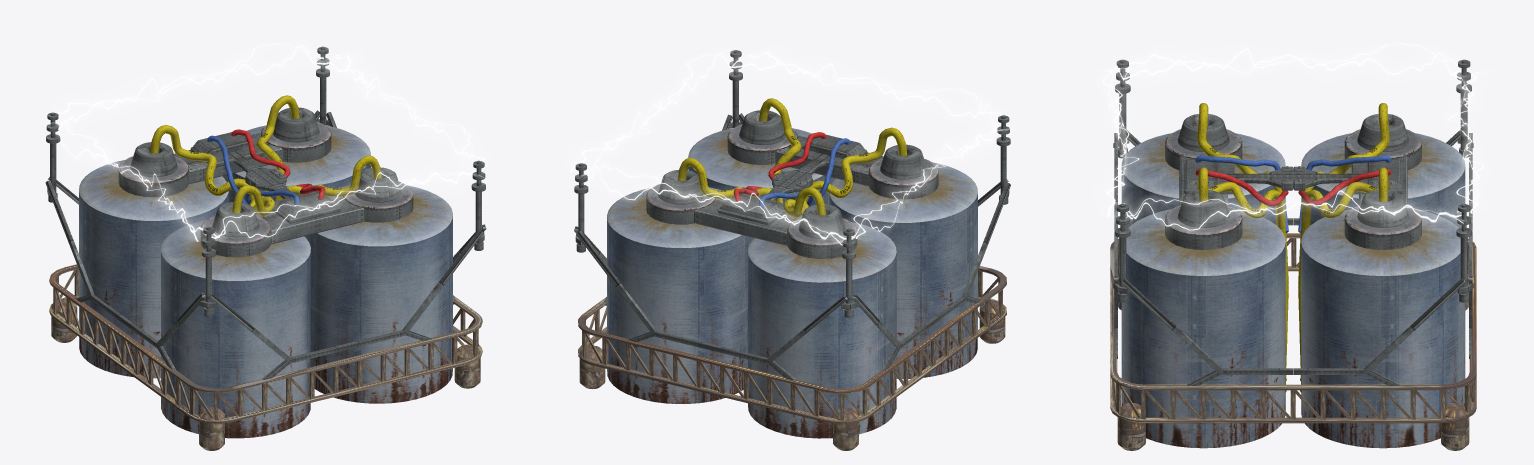
File: static.glb
The picture shows the model from 3 angles, left to right: view 1: azimuth 30°, elevation 25°; view 2: azimuth 150°, elevation 25°; view 3: azimuth 270°, elevation 25°; orthographic projection. The views are drawn at different scales.
Parts seen in each view (by area): view 1: Cylinder_3_2, Disc, Sweep, Cylinder_2_2_2, Cylinder_1_2, Sweep_5, Cube_51, Cylinder, Plane_6, Plane_2, Cube_50, Cube_1_50 (+13 smaller); view 2: Cylinder_3_2, Disc, Sweep, Cylinder_2_2_2, Cylinder_1_2, Sweep_5, Cube_51, Cylinder, Plane_2, Plane_6, Cube_50, Cube_1_50 (+13 smaller); view 3: Cylinder_3_2, Disc, Sweep, Cylinder_2_2_2, Cylinder_1_2, Sweep_5, Plane_4, Plane_8, Cylinder, Cube_1_50, Cube_2, Cylinder_1 (+13 smaller).
Part boxes in pixels (bbox=[...]): Cylinder_3_2: bbox=[79, 164, 452, 438]; Disc: bbox=[79, 125, 452, 280]; Sweep: bbox=[49, 264, 482, 423]; Cylinder_2_2_2: bbox=[118, 121, 413, 257]; Cylinder_1_2: bbox=[130, 107, 401, 237]; Sweep_5: bbox=[150, 95, 381, 216]; Cube_51: bbox=[174, 132, 365, 243]; Cylinder: bbox=[51, 299, 480, 450]; Plane_6: bbox=[58, 44, 323, 130]; Plane_2: bbox=[212, 168, 473, 239]; Cube_50: bbox=[192, 132, 339, 218]; Cube_1_50: bbox=[190, 146, 341, 223]; Cylinder_3_2: bbox=[607, 157, 977, 438]; Disc: bbox=[607, 128, 977, 282]; Sweep: bbox=[578, 266, 1006, 423]; Cylinder_2_2_2: bbox=[646, 124, 938, 258]; Cylinder_1_2: bbox=[658, 110, 927, 238]; Sweep_5: bbox=[677, 98, 907, 218]; Cube_51: bbox=[694, 135, 883, 245]; Cylinder: bbox=[579, 300, 1005, 450]; Plane_2: bbox=[732, 58, 998, 127]; Plane_6: bbox=[586, 165, 853, 242]; Cube_50: bbox=[719, 134, 864, 220]; Cube_1_50: bbox=[717, 148, 867, 225]; Cylinder_3_2: bbox=[1121, 167, 1465, 448]; Disc: bbox=[1121, 133, 1465, 275]; Sweep: bbox=[1110, 233, 1476, 423]; Cylinder_2_2_2: bbox=[1165, 129, 1421, 249]; Cylinder_1_2: bbox=[1177, 114, 1409, 227]; Sweep_5: bbox=[1197, 103, 1389, 392]; Plane_4: bbox=[1123, 47, 1461, 80]; Plane_8: bbox=[1128, 189, 1461, 231]; Cylinder: bbox=[1117, 273, 1469, 450]; Cube_1_50: bbox=[1184, 162, 1402, 194]; Cube_2: bbox=[1121, 129, 1465, 373]; Cylinder_1: bbox=[1119, 93, 1467, 294].
Size of the model in its own units: 5.04 by 3.68 by 5.04.
Materials: 9 (9 with a texture image).
